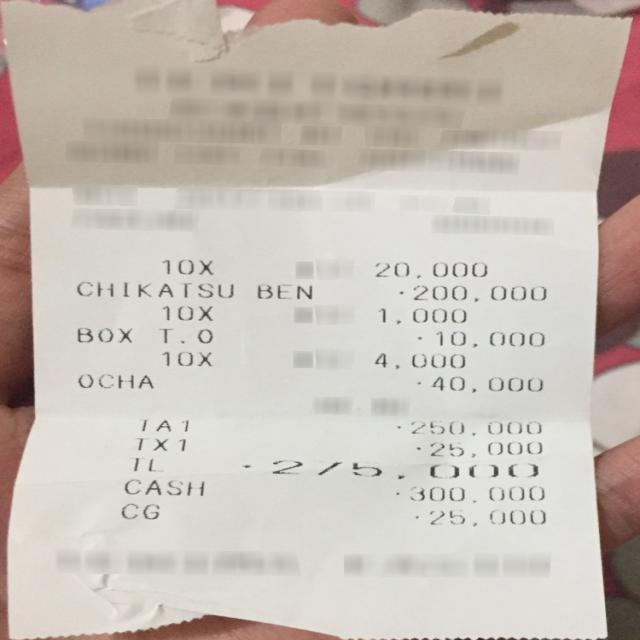text: (397, 486, 545, 505), (76, 280, 232, 298), (397, 284, 546, 302), (266, 457, 380, 477), (416, 440, 540, 458), (416, 330, 547, 347), (413, 375, 543, 391), (415, 509, 544, 525), (396, 420, 542, 434), (374, 262, 484, 276), (429, 464, 537, 477), (124, 479, 203, 495), (374, 353, 463, 367), (378, 308, 465, 322), (74, 326, 134, 343), (159, 258, 215, 274), (78, 374, 152, 386), (160, 304, 212, 321), (159, 328, 214, 344), (256, 284, 310, 298), (162, 351, 211, 365), (128, 455, 166, 473), (120, 502, 158, 519), (141, 419, 187, 431), (138, 438, 184, 450)
